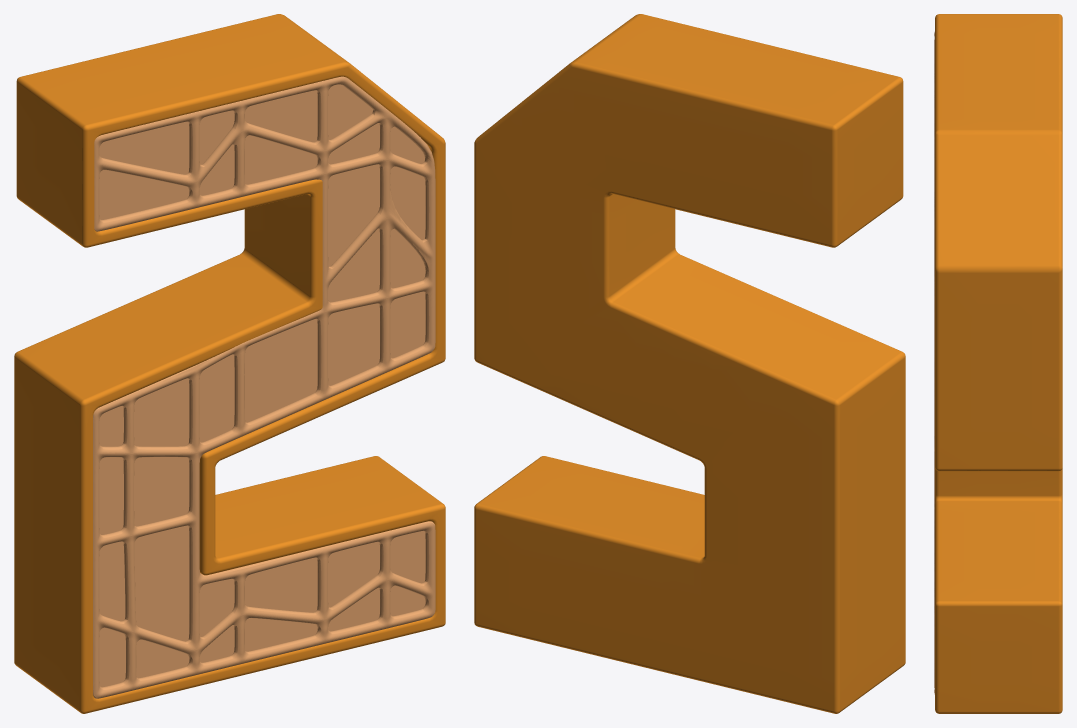
File: 2_nuevo.glb
3 views of the same model, side by side, from view 1: azimuth 30°, elevation 25°; view 2: azimuth 150°, elevation 25°; view 3: azimuth 270°, elevation 25° (orthographic). The views are drawn at different scales.
Visible parts, largest first — view 1: Text.029, Plane.030, Plane.068; view 2: Text.029; view 3: Text.029, Plane.068.
Boxes of the visible parts, box(x1,y1,x2,y2) form: Text.029: box(14, 14, 445, 713); Plane.030: box(99, 84, 425, 687); Plane.068: box(93, 76, 435, 698); Text.029: box(474, 14, 905, 713); Text.029: box(935, 14, 1062, 713); Plane.068: box(934, 32, 934, 694).
Size of the model in its own units: 1.53 by 2.36 by 0.5085.
